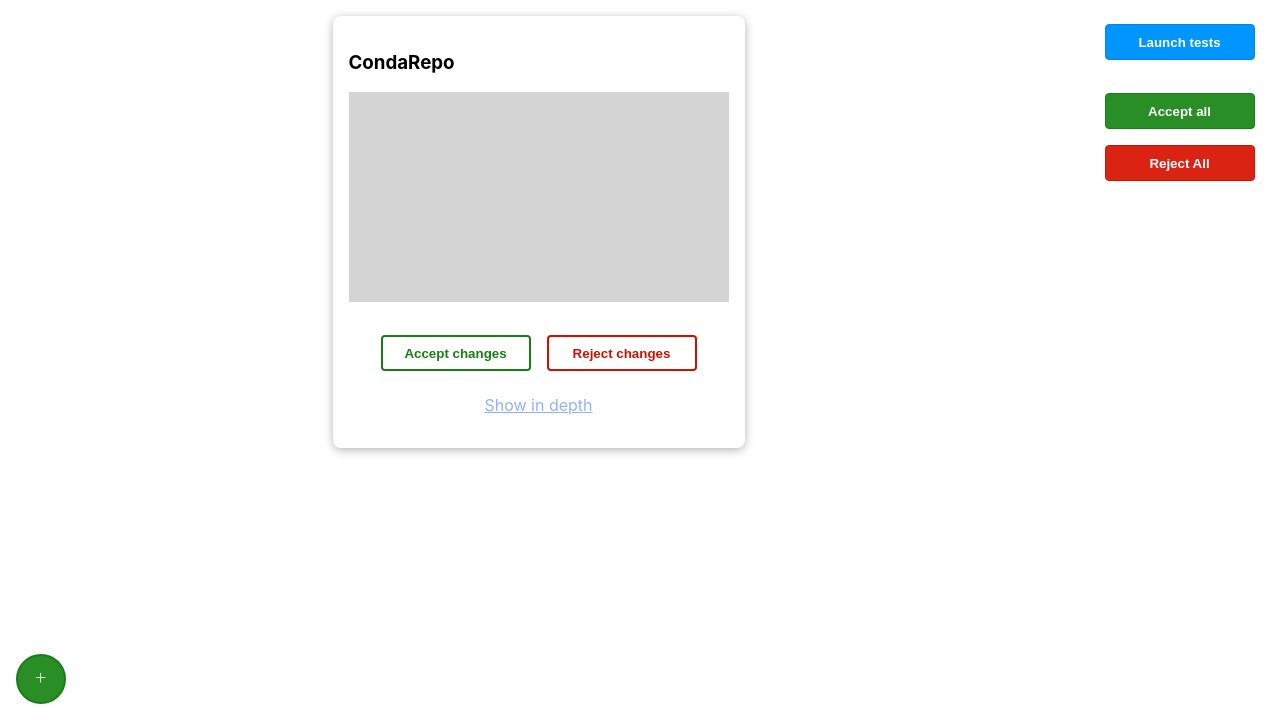
Test: accept/refuse all tests
Click the button with test id "acceptAllChanges" at point(1180, 111), box 1104,93 -> 1254,129
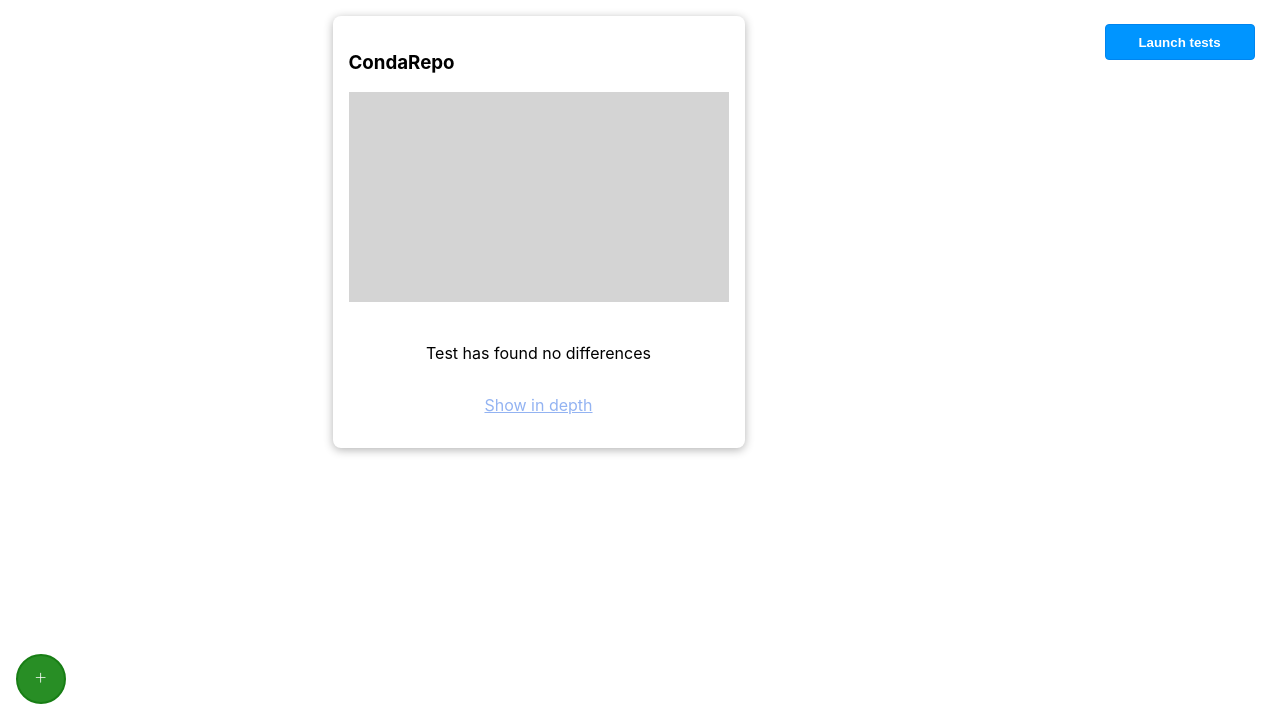
Expected: the text with test id "noDiffParagraph" reads "Test has found no differences", 426,343 -> 651,363
